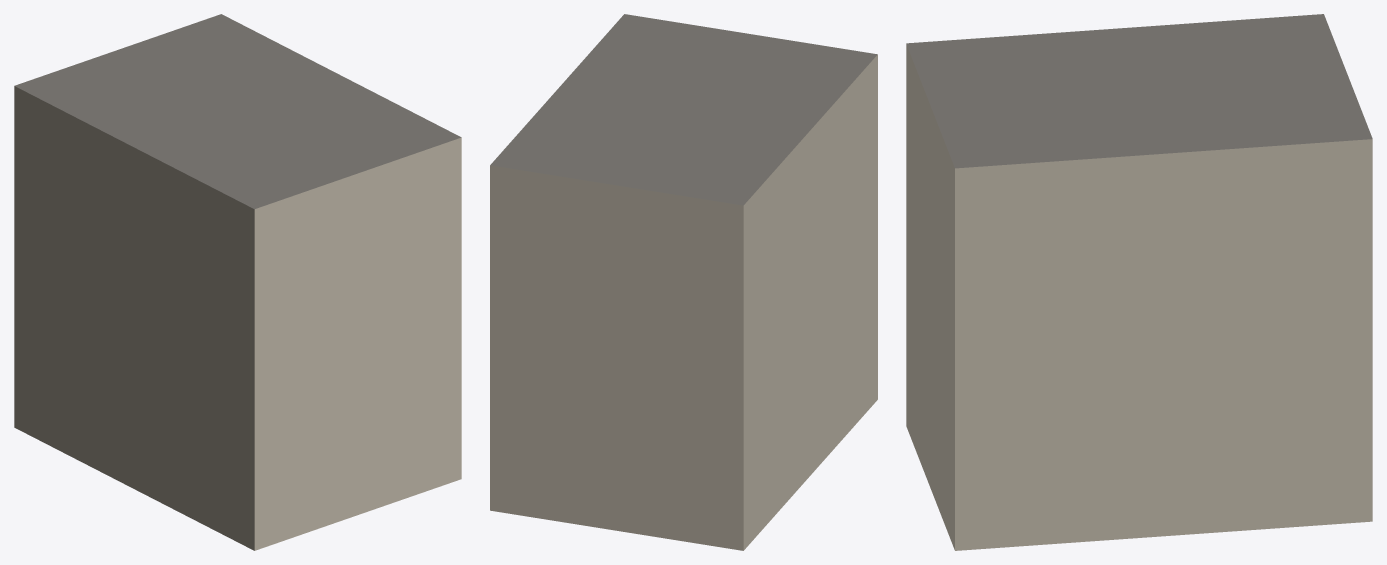
3 views of the same model, side by side, from view 1: azimuth 30°, elevation 25°; view 2: azimuth 150°, elevation 25°; view 3: azimuth 270°, elevation 25° (orthographic). The views are drawn at different scales.
Parts seen in each view (by area): view 1: HP-w1424106473; view 2: HP-w1424106473; view 3: HP-w1424106473.
Boxes of the visible parts, box(x1,y1,x2,y2) form: HP-w1424106473: box(14, 14, 461, 550); HP-w1424106473: box(490, 14, 877, 550); HP-w1424106473: box(906, 14, 1372, 550).
Bounding box in the file's own units: 15.59 × 18 × 19.9.
